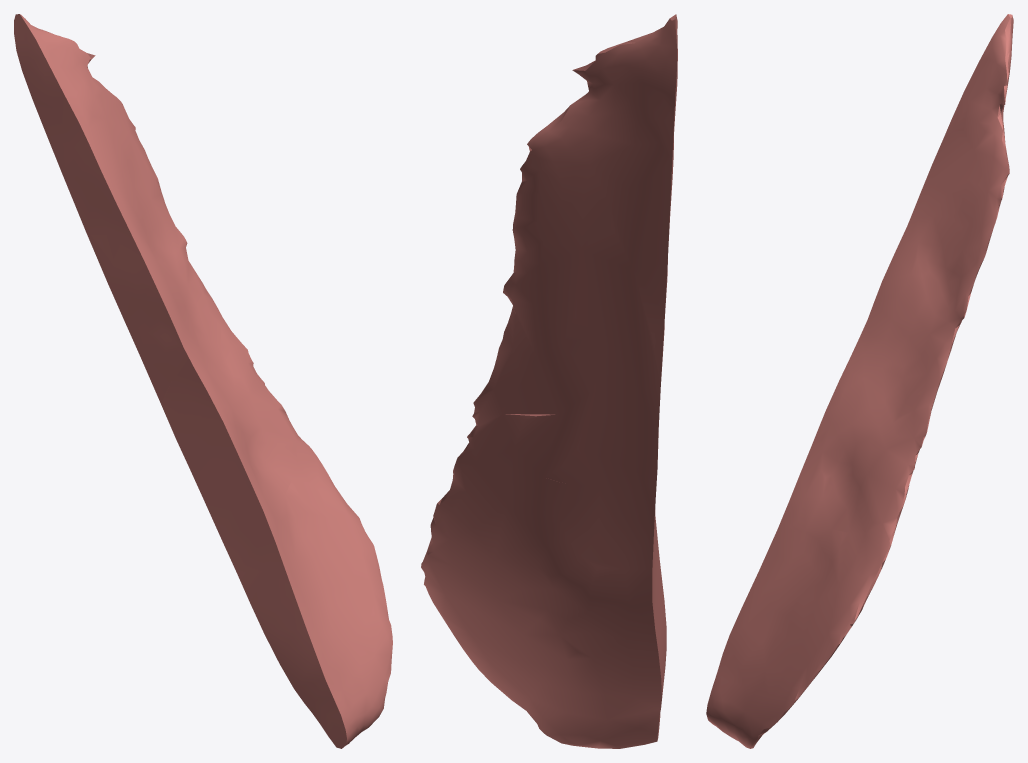
The model's file is fma38693-f_mm1821m.glb.
3 views of the same model, side by side, from view 1: azimuth 30°, elevation 25°; view 2: azimuth 150°, elevation 25°; view 3: azimuth 270°, elevation 25° (orthographic). The views are drawn at different scales.
Visible parts, largest first — view 1: FMA38693-F_MM1821M; view 2: FMA38693-F_MM1821M; view 3: FMA38693-F_MM1821M.
Boxes of the visible parts, x1,y1,x2,y2 form: FMA38693-F_MM1821M: [14, 14, 392, 748]; FMA38693-F_MM1821M: [421, 14, 677, 748]; FMA38693-F_MM1821M: [706, 14, 1013, 748].
Size of the model in its own units: 0.0198 by 0.0469 by 0.0206.
